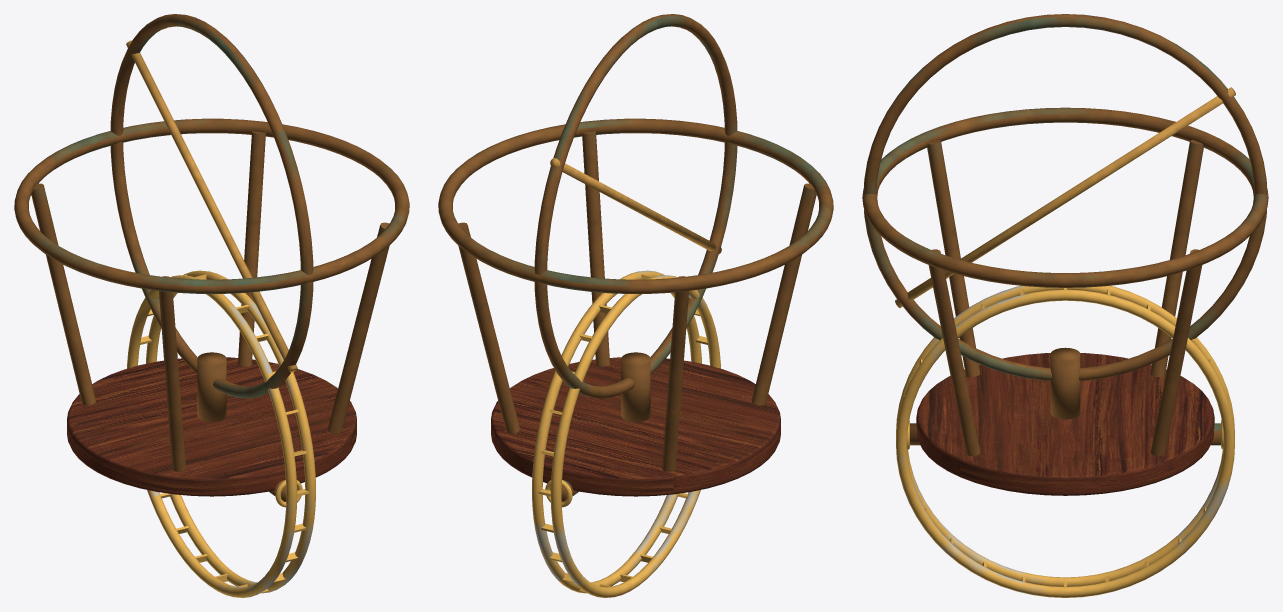
The model's file is armillary.glb.
3 views of the same model, side by side, from view 1: azimuth 30°, elevation 25°; view 2: azimuth 150°, elevation 25°; view 3: azimuth 270°, elevation 25° (orthographic). The views are drawn at different scales.
Visible parts, largest first — view 1: am_base, am_ring; view 2: am_base, am_ring; view 3: am_base, am_ring.
Boxes of the visible parts, x1,y1,x2,y2 form: am_base: (14, 14, 409, 496); am_ring: (127, 270, 315, 597); am_base: (438, 14, 833, 496); am_ring: (532, 270, 720, 597); am_base: (862, 14, 1268, 495); am_ring: (896, 285, 1234, 597).
Size of the model in its own units: 0.218 by 0.3395 by 0.218.
Materials: 4 (4 with a texture image).
